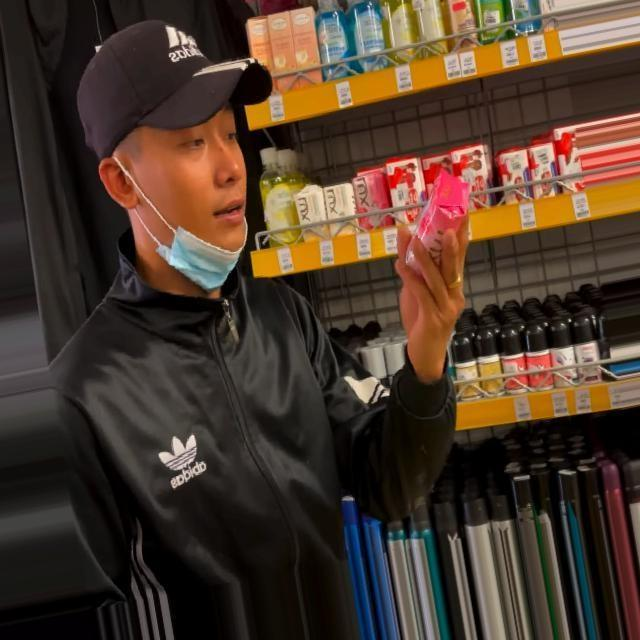hairnet: (148, 131, 248, 286)
